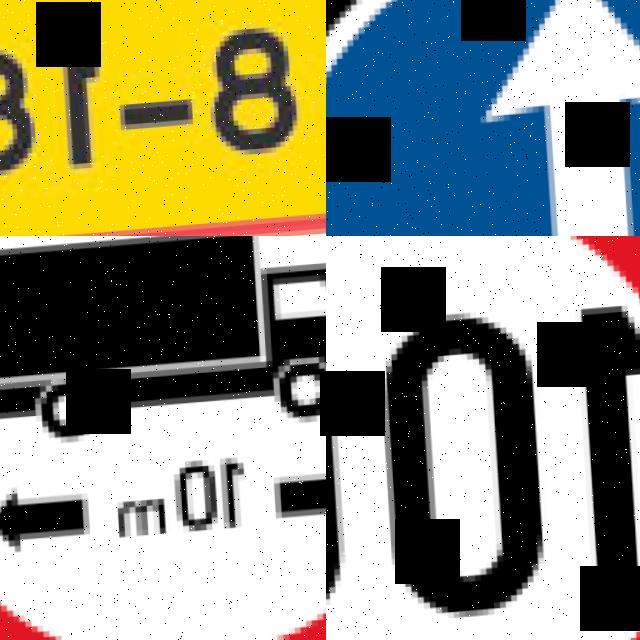181: (0, 0, 326, 236)
Straight ahead: (326, 0, 640, 236)
length limit-10m: (0, 236, 326, 640)
speed limit-100: (326, 236, 640, 640)
